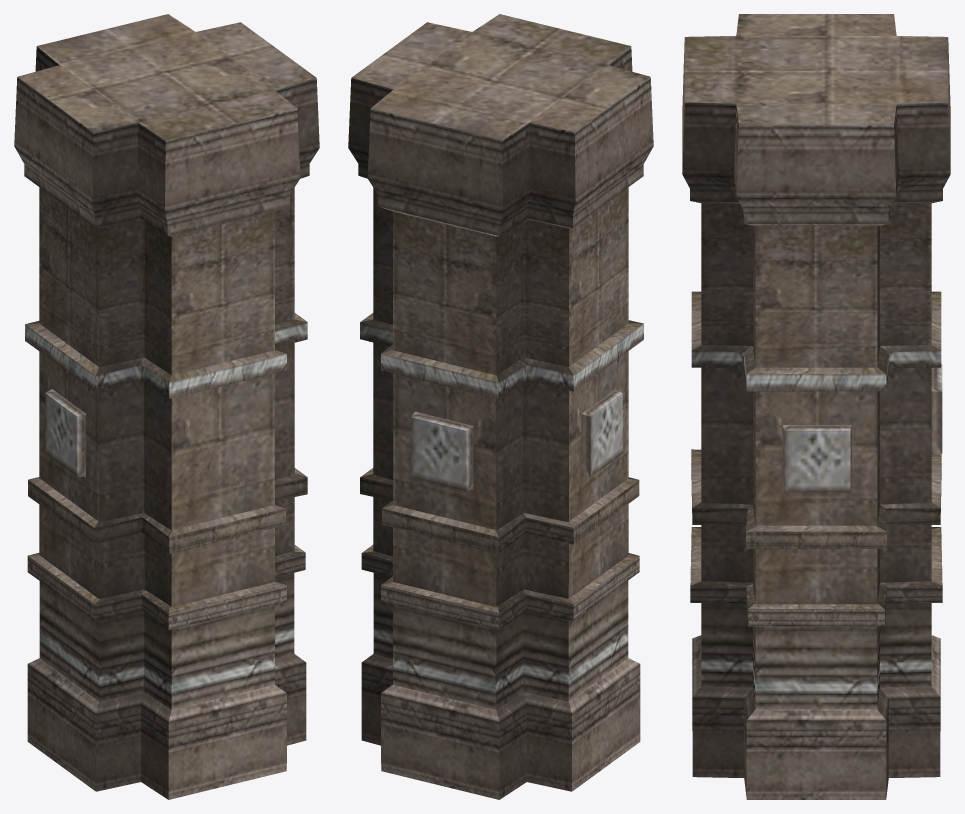
File: SM_zhucheng_Column_Large_01.FBX
3 views of the same model, side by side, from view 1: azimuth 30°, elevation 25°; view 2: azimuth 150°, elevation 25°; view 3: azimuth 270°, elevation 25° (orthographic). The views are drawn at different scales.
Visible parts, largest first — view 1: SM_zhucheng_Column_Large_01; view 2: SM_zhucheng_Column_Large_01; view 3: SM_zhucheng_Column_Large_01.
Part boxes in pixels (x1,y1,x2,y2): SM_zhucheng_Column_Large_01: [14, 14, 319, 799]; SM_zhucheng_Column_Large_01: [348, 14, 653, 799]; SM_zhucheng_Column_Large_01: [682, 14, 950, 799].
Size of the model in its own units: 93.43 by 261 by 93.43.
